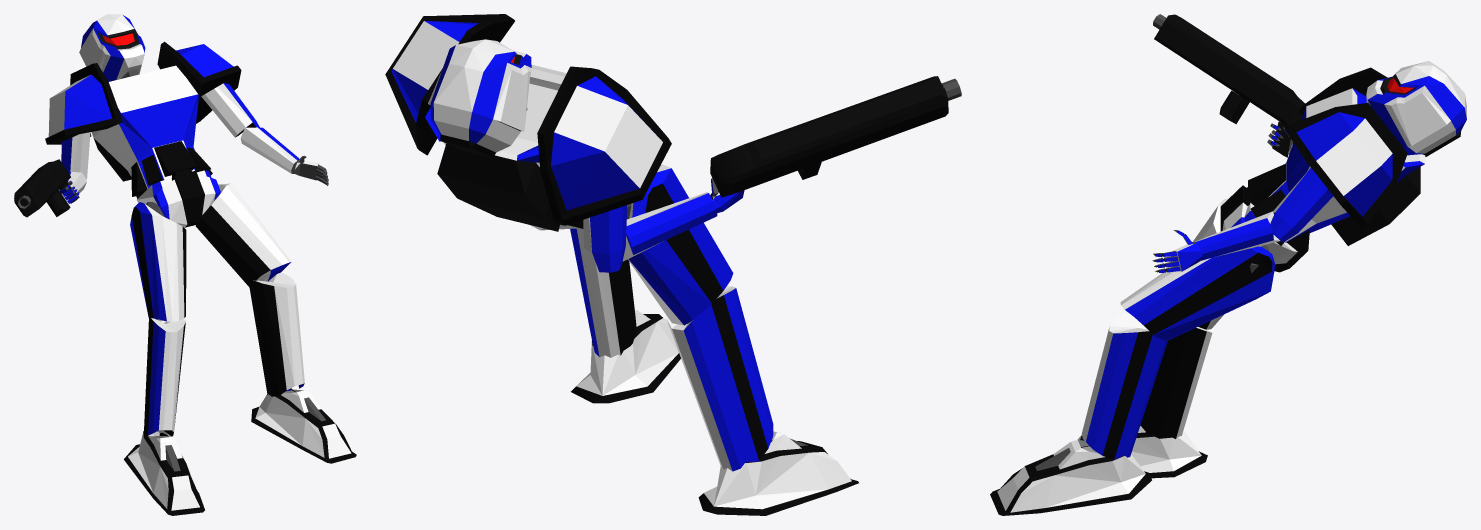
The model's file is robots_000015.obj.
3 views of the same model, side by side, from view 1: azimuth 30°, elevation 25°; view 2: azimuth 150°, elevation 25°; view 3: azimuth 270°, elevation 25° (orthographic). The views are drawn at different scales.
Parts seen in each view (by area): view 1: Chest_plate_Cube.004, R_Thigh_Cube.005, R_Shin.002_Cube.029, R_Thigh.002_Cube.027, R_Foot.002_Cube.035, R_Shin_Cube.007, R_Foot_Cube, Cube.002_Cube.059, Head_base_Cube.022, Pelvis_Cube.006, Cube_Cube.021, Cube_Cube.001 (+3 smaller); view 2: Cube.002_Cube.059, Cube_Cube.001, R_Shin_Cube.007, Head_base_Cube.022, Chest_plate_Cube.004, R_Thigh_Cube.005, R_Foot_Cube, Cube_Cube.021, R_Foot.002_Cube.035, R_Shin.002_Cube.029, R_Forearm_Cube.008, R_Arm_Cube.002; view 3: Cube_Cube.021, R_Thigh.002_Cube.027, R_Shin.002_Cube.029, R_Foot.002_Cube.035, Head_base_Cube.022, Cube_Cube.001, Chest_plate_Cube.004, R_Shin_Cube.007, R_Foot_Cube, L_Arm_Cube.014, Pelvis_Cube.006, L_Forearm_Cube.020 (+3 smaller).
Part boxes in pixels (left/top/right/bottom): Chest_plate_Cube.004: left=91, top=65, right=212, bottom=196; R_Thigh_Cube.005: left=130, top=202, right=186, bottom=321; R_Shin.002_Cube.029: left=249, top=272, right=304, bottom=396; R_Thigh.002_Cube.027: left=196, top=183, right=291, bottom=288; R_Foot.002_Cube.035: left=251, top=388, right=356, bottom=463; R_Shin_Cube.007: left=143, top=317, right=185, bottom=436; R_Foot_Cube: left=124, top=430, right=204, bottom=515; Cube.002_Cube.059: left=45, top=63, right=122, bottom=144; Head_base_Cube.022: left=79, top=14, right=145, bottom=81; Pelvis_Cube.006: left=136, top=168, right=220, bottom=227; Cube_Cube.021: left=157, top=41, right=241, bottom=123; Cube_Cube.001: left=14, top=159, right=79, bottom=217; Cube.002_Cube.059: left=537, top=66, right=671, bottom=225; Cube_Cube.001: left=710, top=76, right=961, bottom=199; R_Shin_Cube.007: left=666, top=286, right=773, bottom=471; Head_base_Cube.022: left=428, top=39, right=531, bottom=157; Chest_plate_Cube.004: left=425, top=64, right=566, bottom=231; R_Thigh_Cube.005: left=628, top=164, right=733, bottom=325; R_Foot_Cube: left=698, top=431, right=858, bottom=515; Cube_Cube.021: left=385, top=14, right=514, bottom=155; R_Foot.002_Cube.035: left=571, top=309, right=680, bottom=403; R_Shin.002_Cube.029: left=570, top=228, right=636, bottom=357; R_Forearm_Cube.008: left=622, top=192, right=717, bottom=261; R_Arm_Cube.002: left=583, top=205, right=626, bottom=272; Cube_Cube.021: left=1284, top=103, right=1407, bottom=228; R_Thigh.002_Cube.027: left=1120, top=246, right=1275, bottom=340; R_Shin.002_Cube.029: left=1081, top=312, right=1167, bottom=459; R_Foot.002_Cube.035: left=990, top=440, right=1151, bottom=515; Head_base_Cube.022: left=1366, top=61, right=1466, bottom=156; Cube_Cube.001: left=1153, top=14, right=1304, bottom=157; Chest_plate_Cube.004: left=1248, top=88, right=1425, bottom=245; R_Shin_Cube.007: left=1140, top=326, right=1214, bottom=438; R_Foot_Cube: left=1077, top=426, right=1207, bottom=478; L_Arm_Cube.014: left=1270, top=168, right=1333, bottom=242; Pelvis_Cube.006: left=1220, top=185, right=1309, bottom=272; L_Forearm_Cube.020: left=1194, top=211, right=1280, bottom=260.
Bounding box in the file's own units: 2.31 × 2.62 × 2.51.
